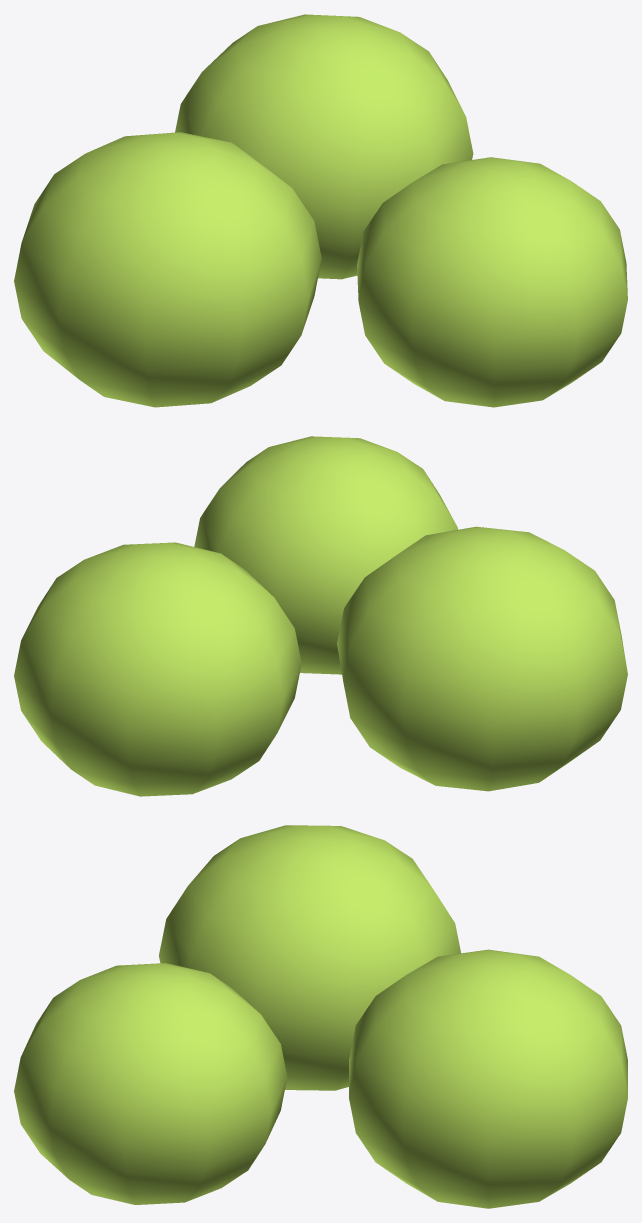
File: cabbage.gltf
3 renders of one model, top to bottom at view 1: azimuth 30°, elevation 25°; view 2: azimuth 150°, elevation 25°; view 3: azimuth 270°, elevation 25°, orthographic. The views are drawn at different scales.
Parts seen in each view (by area): view 1: Sphere_-_baked_1 (×2), Sphere_-_baked_2; view 2: Sphere_-_baked_1 (×2), Sphere_-_baked_2; view 3: Sphere_-_baked_1 (×2), Sphere_-_baked_2.
Part boxes in pixels (x1,y1,x2,y2): Sphere_-_baked_1 (×2): (14,132,627,407); Sphere_-_baked_2: (175,14,473,279); Sphere_-_baked_1 (×2): (194,436,627,791); Sphere_-_baked_2: (14,542,301,796); Sphere_-_baked_1 (×2): (14,825,460,1204); Sphere_-_baked_2: (349,949,627,1208).
Bounding box in the file's own units: 321 × 148 × 345.
